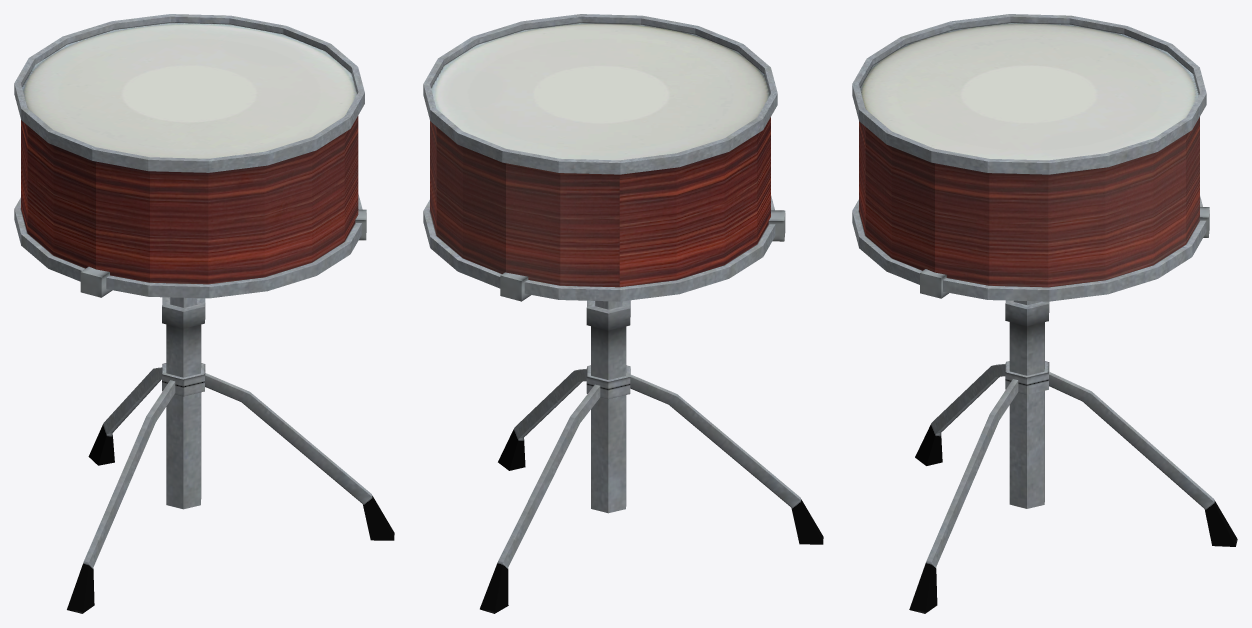
Rendered from ARC0810078.fbx.
3 views of the same model, side by side, from view 1: azimuth 30°, elevation 25°; view 2: azimuth 150°, elevation 25°; view 3: azimuth 270°, elevation 25° (orthographic).
Parts seen in each view (by area): view 1: smARC0810078; view 2: smARC0810078; view 3: smARC0810078.
Part boxes in pixels (x1,y1,x2,y2): smARC0810078: (14,14,394,613); smARC0810078: (423,14,823,613); smARC0810078: (852,14,1237,613).
Size of the model in its own units: 54.43 by 71.19 by 55.3.
Materials: 1 (1 with a texture image).
